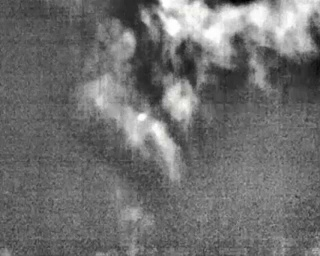AIRPLANE: (136, 111, 149, 125)
